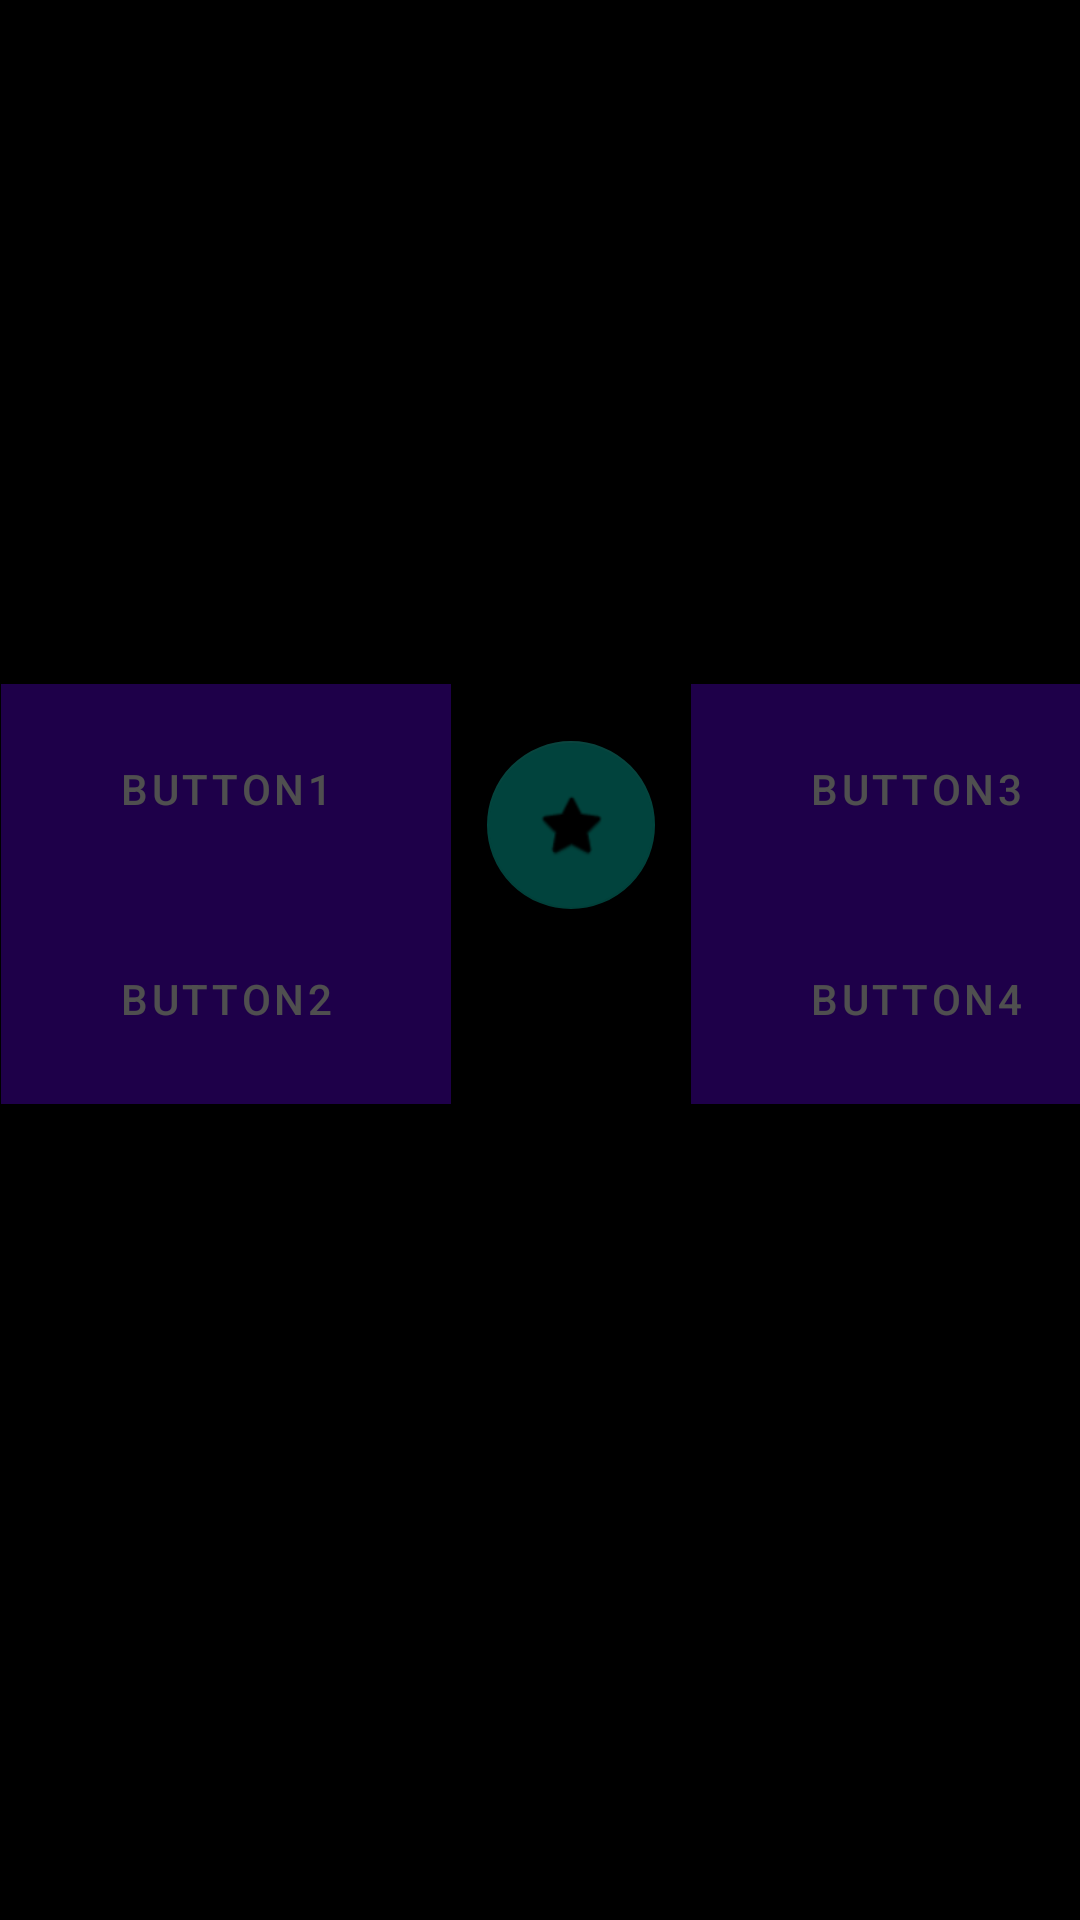

Where to tap for icons on this 1080w x 1920h app screen, as point (x, y):
star on: point (571, 825)
